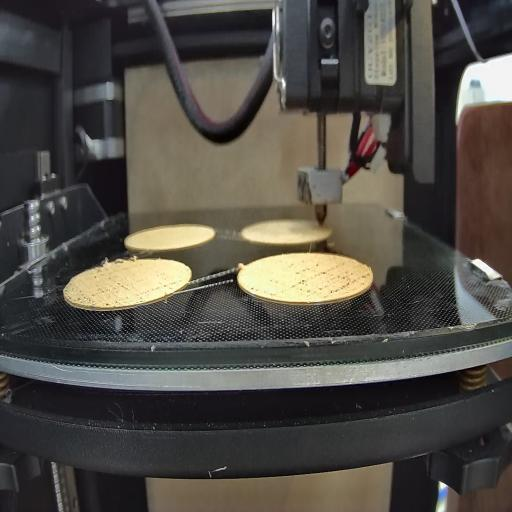under_extrusion: (290, 263, 372, 295), (79, 275, 132, 307), (251, 279, 281, 297), (149, 283, 181, 296)
